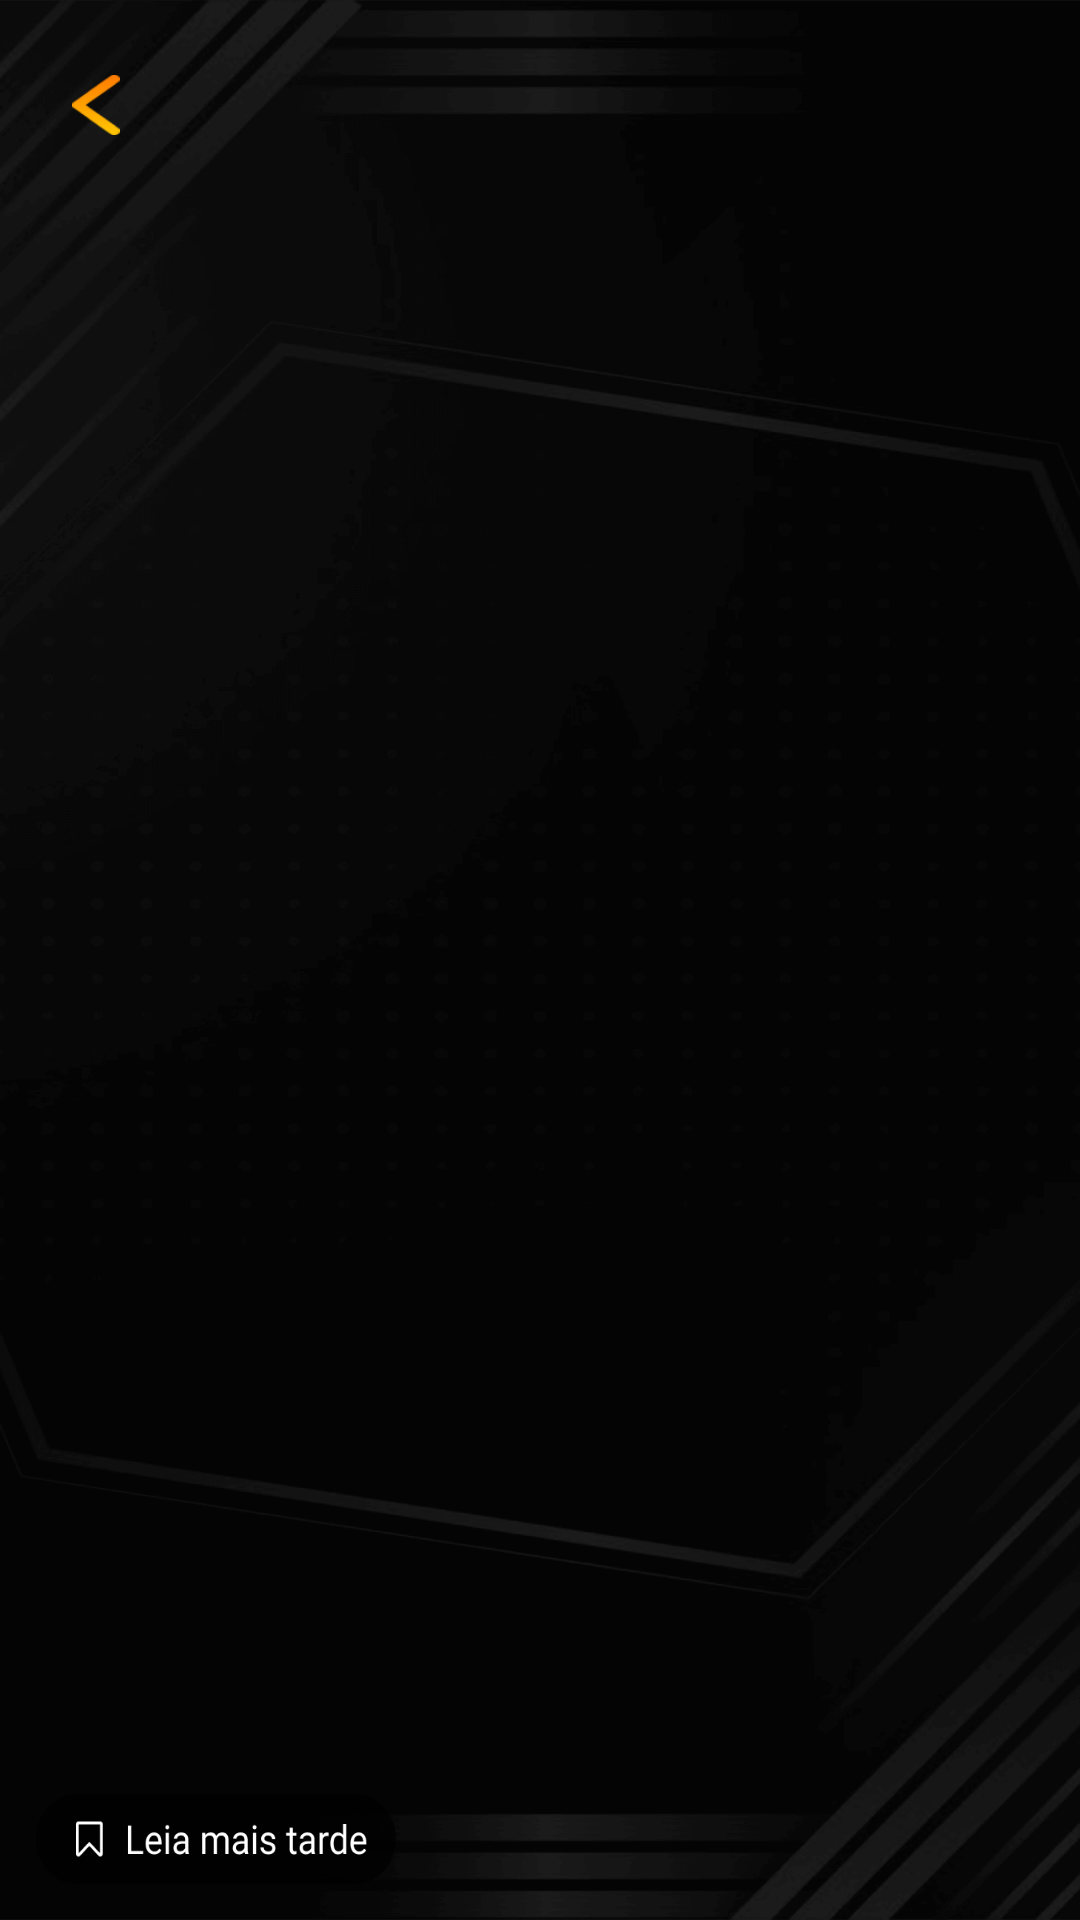

Icon bounding boxes for this 1080×1920 phone screenshot, format (x1, y1, x2, y2):
back arrow kaverdarm: (72, 75, 120, 135)
